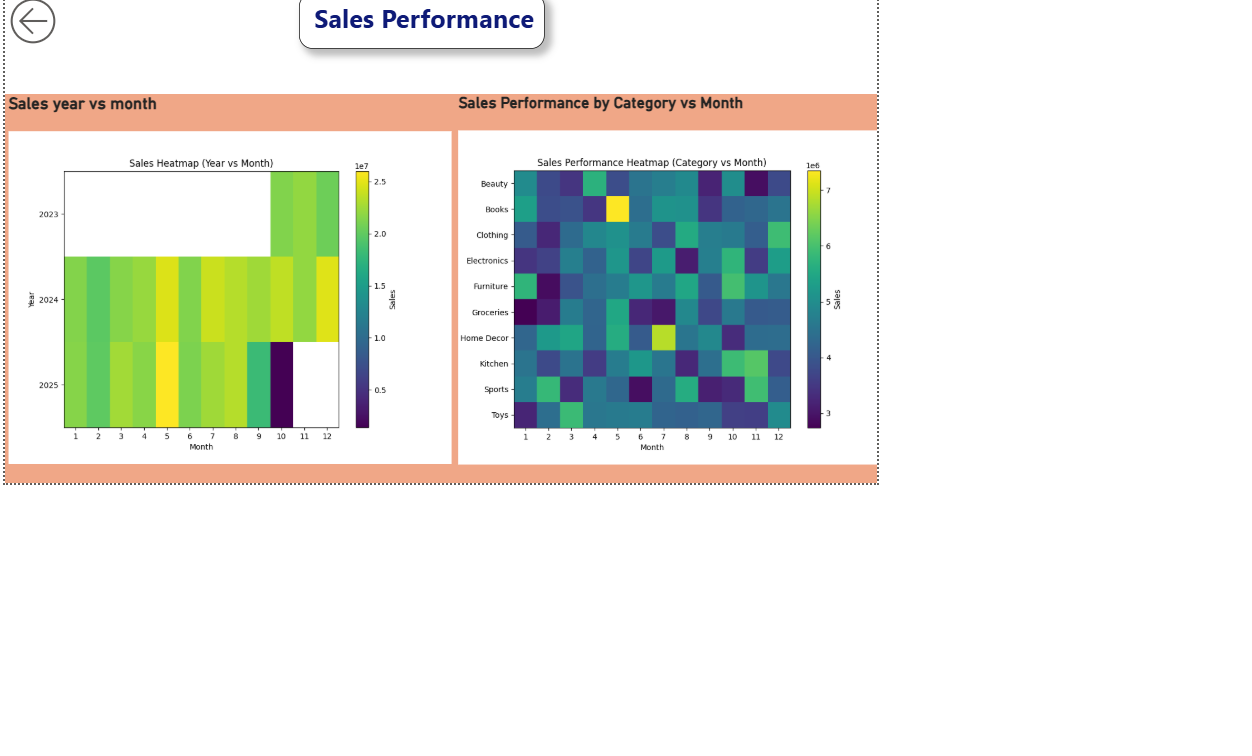

Layout of this report page (visuals, bound fields, positions):
{"tool":"powerbi","page":{"name":"sales year vs month","canvas":[1280,720],"ordinal":3},"visuals":[{"type":"pythonVisual","title":" Sales year vs month","fields":{"Values":["monthly_sales.Order Date.Variation.Date Hierarchy.Year","monthly_sales.Order Date.Variation.Date Hierarchy.Quarter","monthly_sales.Order Date.Variation.Date Hierarchy.Month","monthly_sales.Order Date.Variation.Date Hierarchy.Day","monthly_sales.Sales"]},"box":[0,148.4,661.6,571.6],"z":0},{"type":"textbox","box":[432,0,361.5,82.3],"z":1},{"type":"pythonVisual","title":"Sales Performance by Category vs Month","fields":{"Values":["cleaned_data.Category","cleaned_data.Order Date.Variation.Date Hierarchy.Year","cleaned_data.Order Date.Variation.Date Hierarchy.Quarter","cleaned_data.Order Date.Variation.Date Hierarchy.Month","cleaned_data.Order Date.Variation.Date Hierarchy.Day","Sum(cleaned_data.Sales)"]},"box":[661.6,148.4,664.7,571.6],"z":2},{"type":"actionButton","box":[0,0,99.9,82.3],"z":3}]}

Visuals, with their boxes on the page's 1280x720 design canvas (x1, y1, x2, y2). These are canvas units, not pixel positions in the 1252x756 screenshot, which may show the page scaled, cropped or inside an application window:
" Sales year vs month" pythonVisual: bbox=(0, 148, 662, 720)
textbox: bbox=(432, 0, 794, 82)
"Sales Performance by Category vs Month" pythonVisual: bbox=(662, 148, 1326, 720)
actionButton: bbox=(0, 0, 100, 82)
